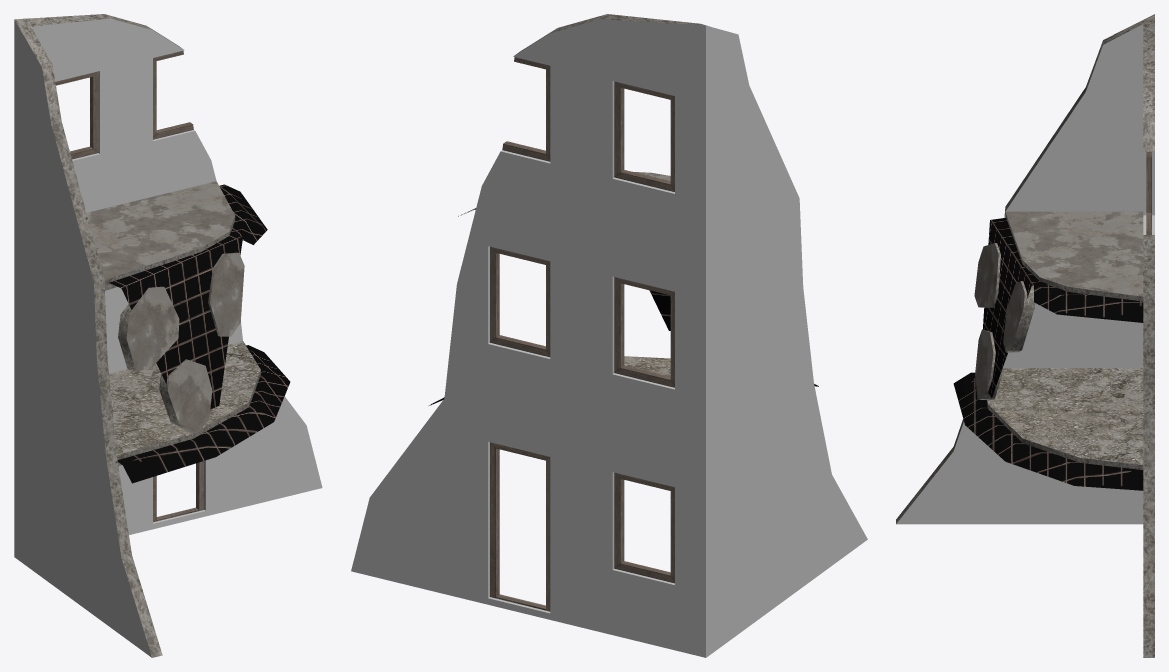
Rendered from Building_I_Corner_Destroyed.fbx.
3 renders of one model, left to right at view 1: azimuth 30°, elevation 25°; view 2: azimuth 150°, elevation 25°; view 3: azimuth 270°, elevation 25°, orthographic. The views are drawn at different scales.
Visible parts, largest first — view 1: Walls, Floor_Top, Rebar, Broken_Concrete, Floor_Bottom, Windows; view 2: Walls, Windows; view 3: Walls, Floor_Top, Floor_Bottom, Rebar, Broken_Concrete, Windows.
Boxes of the visible parts, x1,y1,x2,y2 form: Walls: (14,18,322,657); Floor_Top: (86,181,244,433); Rebar: (109,184,290,483); Broken_Concrete: (14,14,260,657); Floor_Bottom: (109,341,260,455); Windows: (55,51,204,522); Walls: (351,19,867,657); Windows: (490,57,674,611); Walls: (896,24,1154,524); Floor_Top: (974,211,1143,399); Floor_Bottom: (987,368,1143,464); Rebar: (953,218,1143,490); Broken_Concrete: (896,14,1154,657); Windows: (1146,152,1151,234).
Size of the model in its own units: 570 by 970 by 450.
